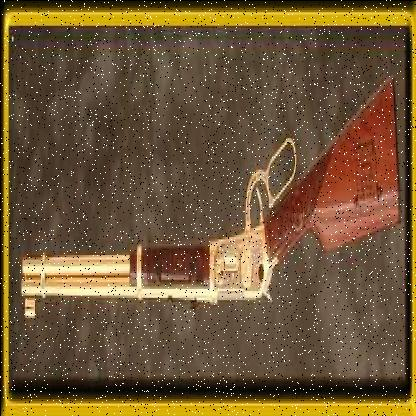rifle: (15, 58, 407, 366)
